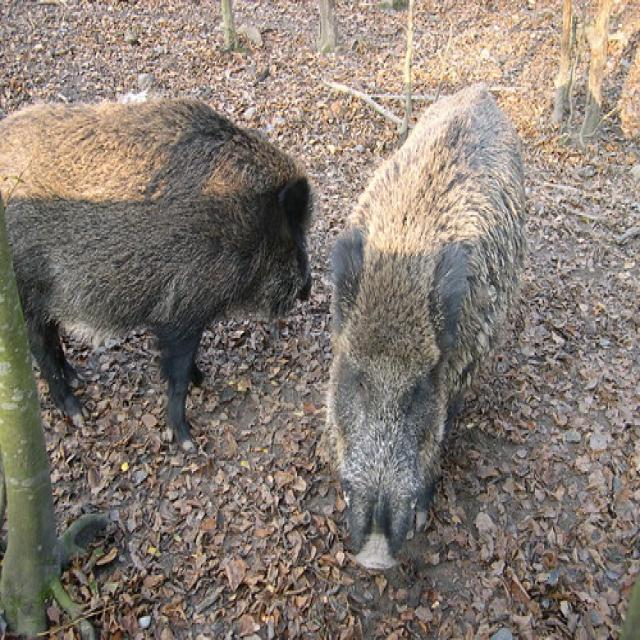boar: (311, 85, 553, 640), (0, 66, 344, 436)
